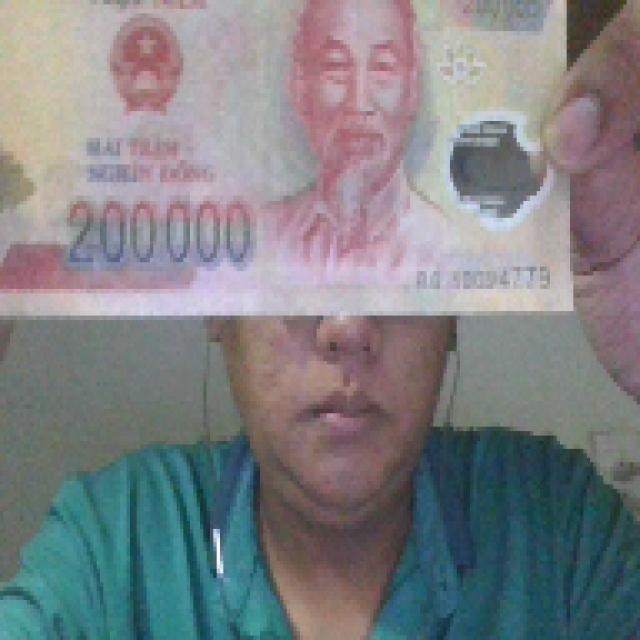200 000 VND: (0, 0, 580, 320)
